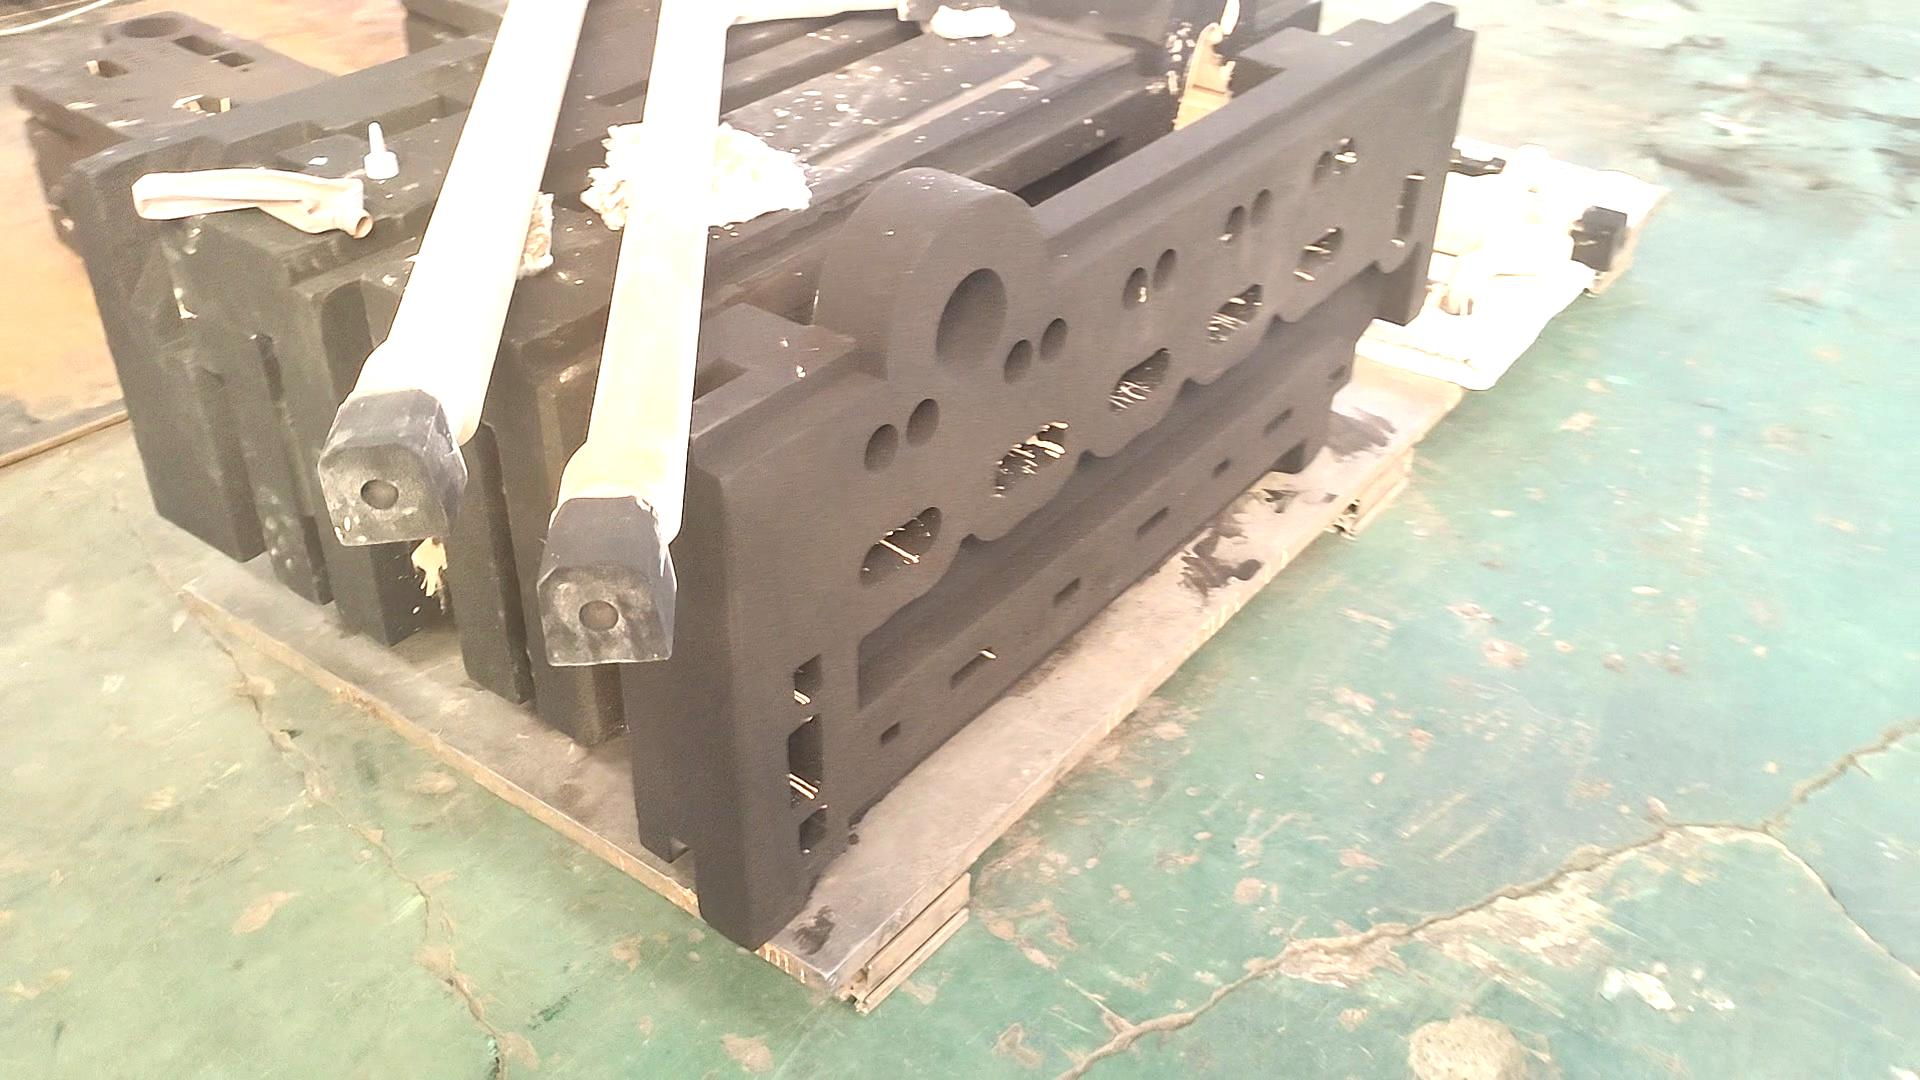pouring hole: (934, 268, 1007, 371), (117, 16, 185, 40)
